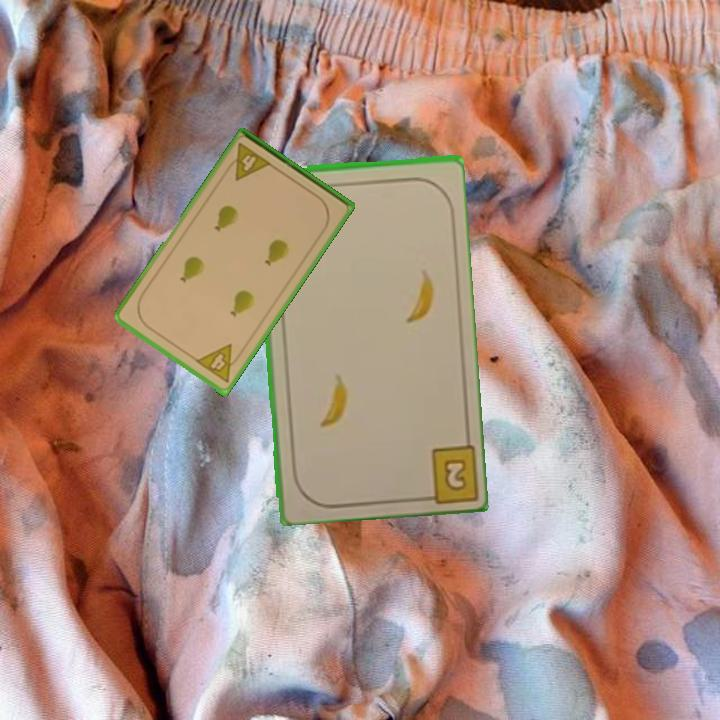2b: (413, 438, 478, 503)
4p: (192, 341, 245, 386), (222, 139, 274, 184)
